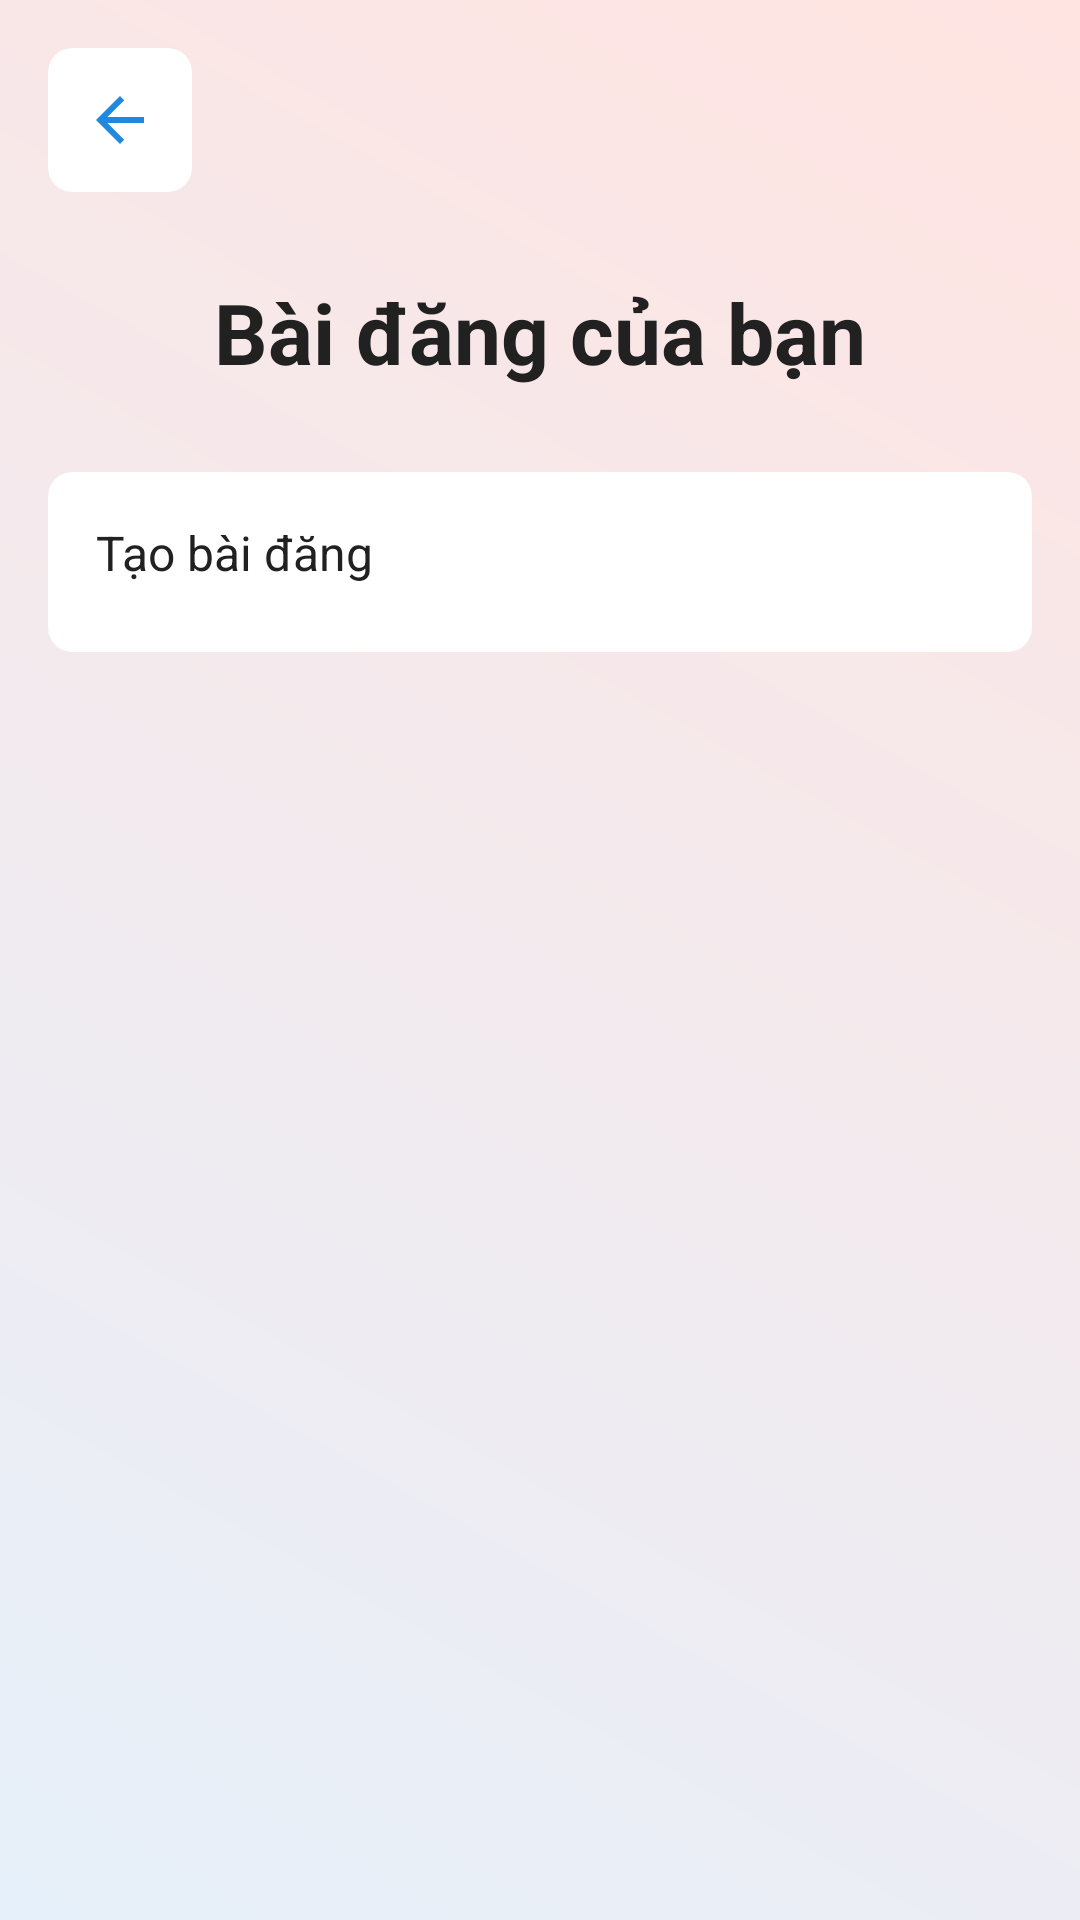

Icon click points for this 1080 × 1920 phone screenshot, format point (x, y):
Quay lại: point (120, 120)
